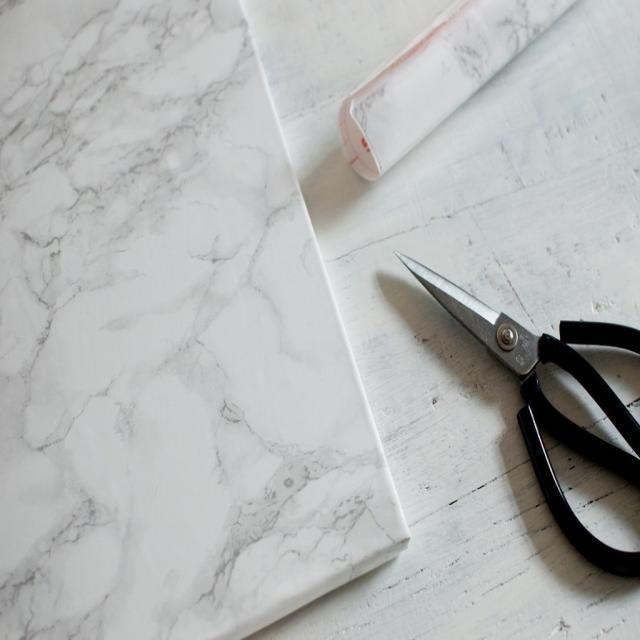scissors: (392, 248, 640, 579)
